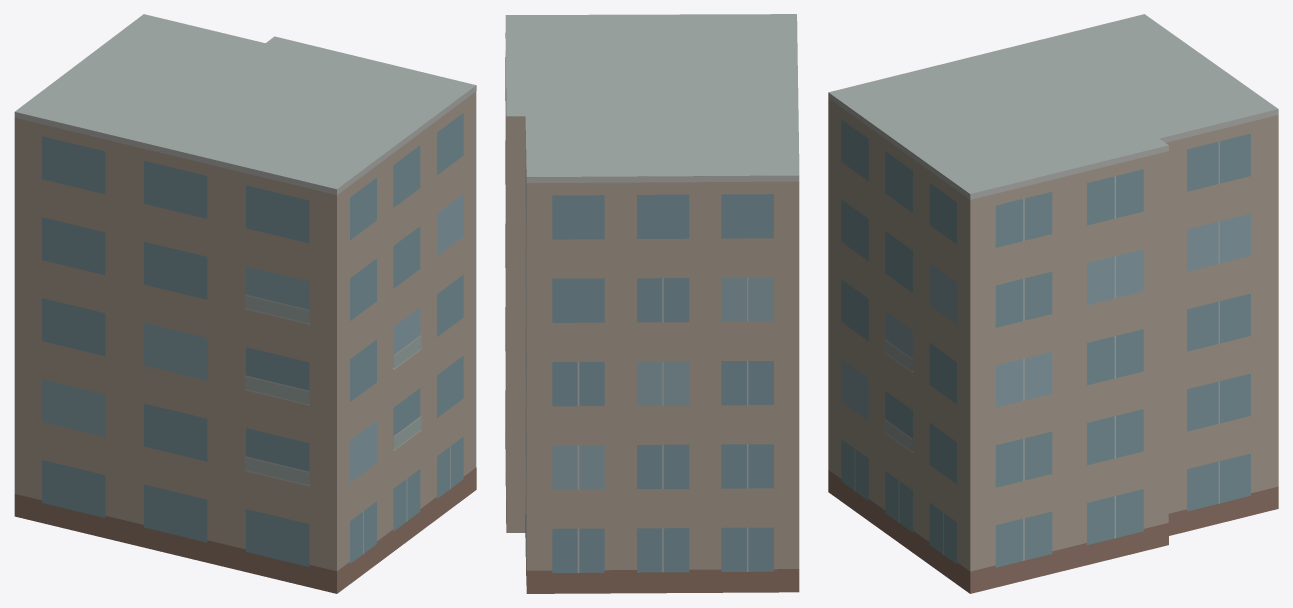
File: survey-upis-32856330.glb
3 views of the same model, side by side, from view 1: azimuth 30°, elevation 25°; view 2: azimuth 150°, elevation 25°; view 3: azimuth 270°, elevation 25° (orthographic). The views are drawn at different scales.
Parts seen in each view (by area): view 1: survey-upis-32856330.tmp; view 2: survey-upis-32856330.tmp; view 3: survey-upis-32856330.tmp.
Part boxes in pixels (x1=…): survey-upis-32856330.tmp: x1=14, y1=14, x2=476, y2=593; survey-upis-32856330.tmp: x1=505, y1=14, x2=799, y2=593; survey-upis-32856330.tmp: x1=828, y1=14, x2=1278, y2=593.
Size of the model in its own units: 16.24 by 16.8 by 17.16.
